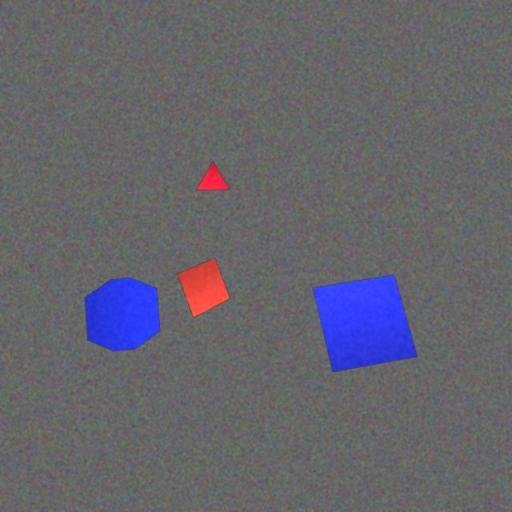BLUE_SQUARE: (312, 274, 418, 372)
RED_SQUARE: (177, 258, 231, 318)
